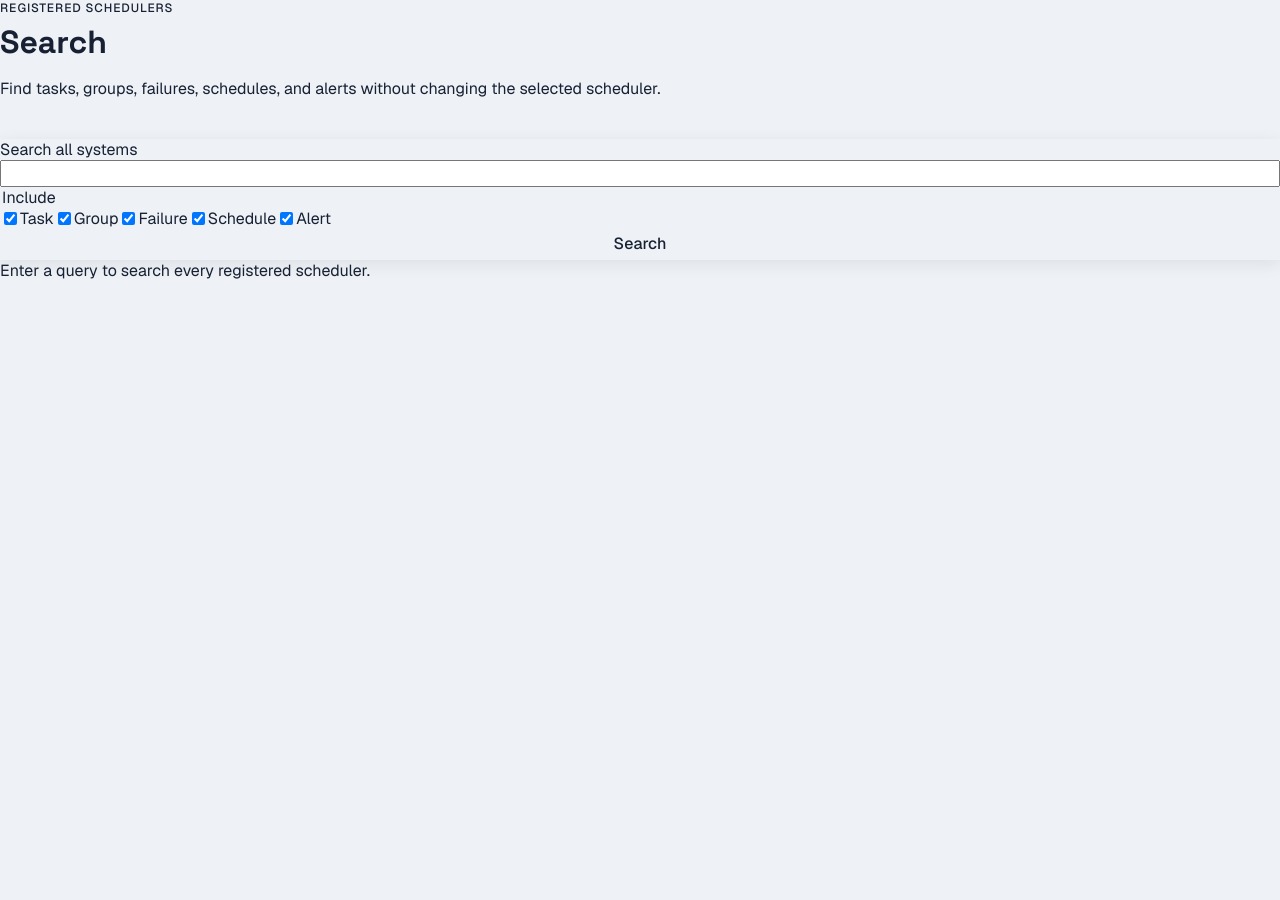
Scenario: SearchPage › requires compatible selections and groups confirmation by source
Type "archive" into the field labelled "Search all systems" at (640, 173), box [0, 160, 1279, 187]
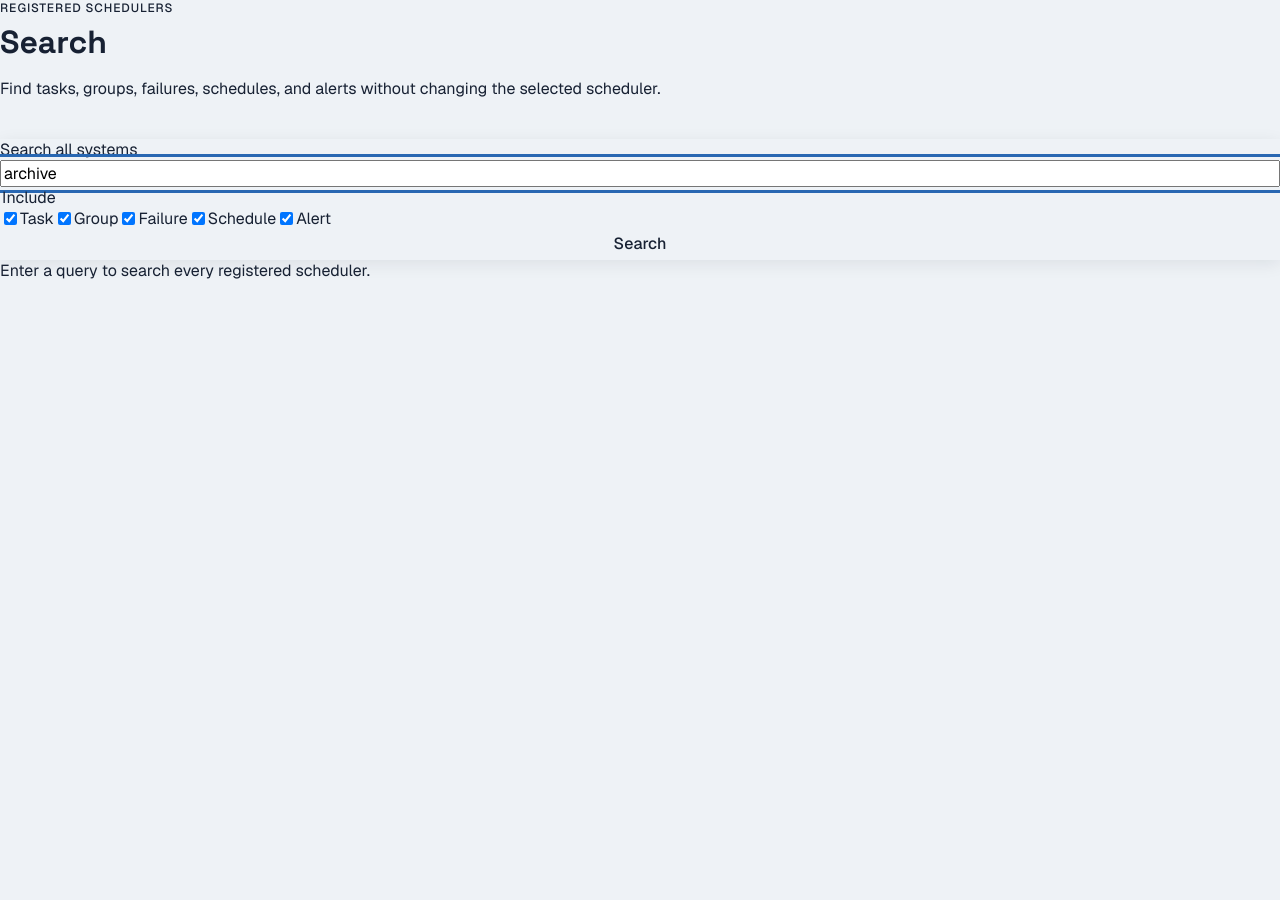
Click the button "Search" at (640, 244), box [0, 229, 1279, 260]
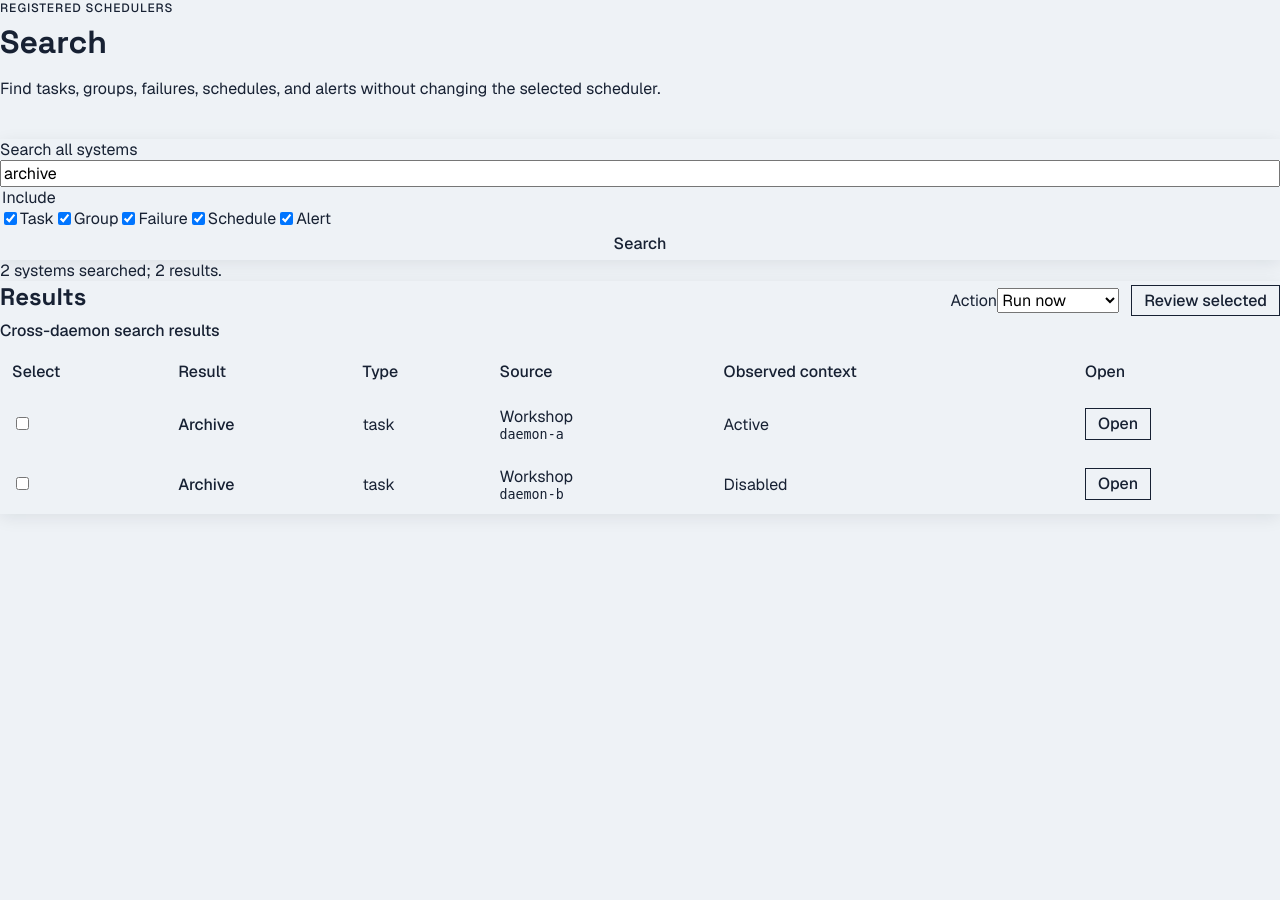
expect the text "2 systems searched; 2 results." is shown: met, box [0, 260, 222, 281]
Click the checkbox named "Select Archive from Workshop" in the row of "daemon-a" at (22, 423), box [16, 417, 29, 430]
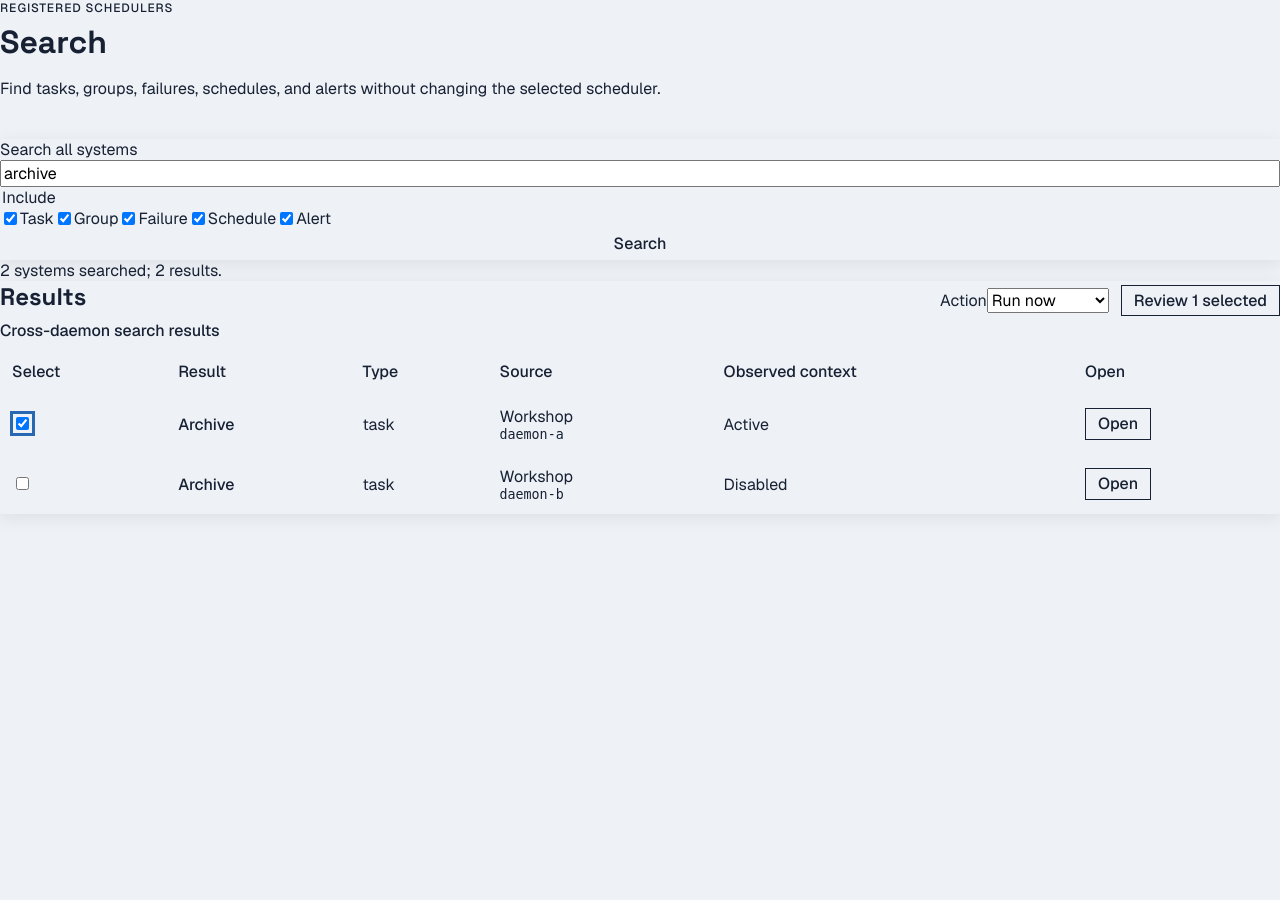
expect the button "Review 1 selected" is enabled: met
Click the button "Review 1 selected" at (1200, 301), box [1121, 285, 1279, 316]
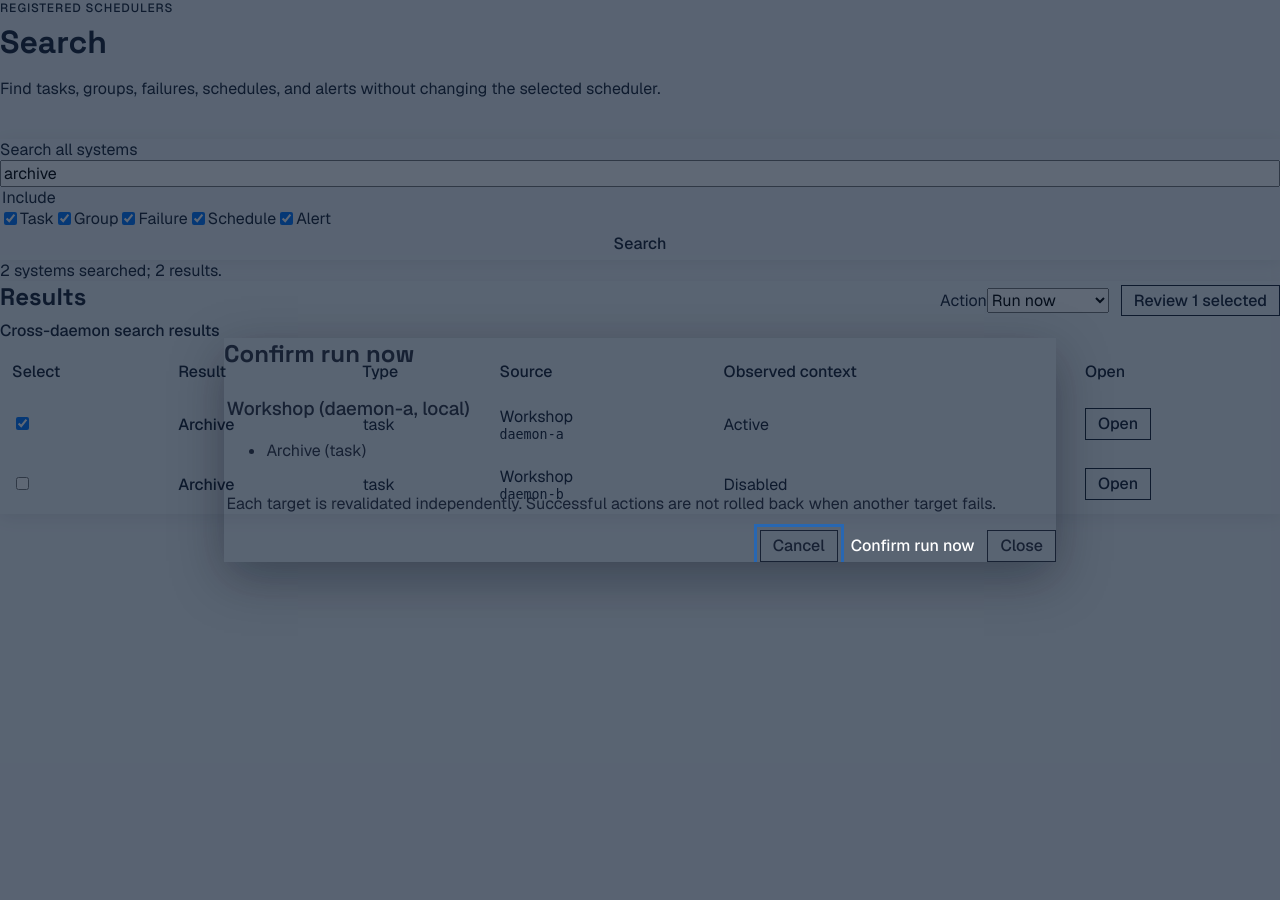
expect the dialog "Confirm run now" shows "Workshop (daemon-a, local)": met, box [226, 396, 470, 421]
